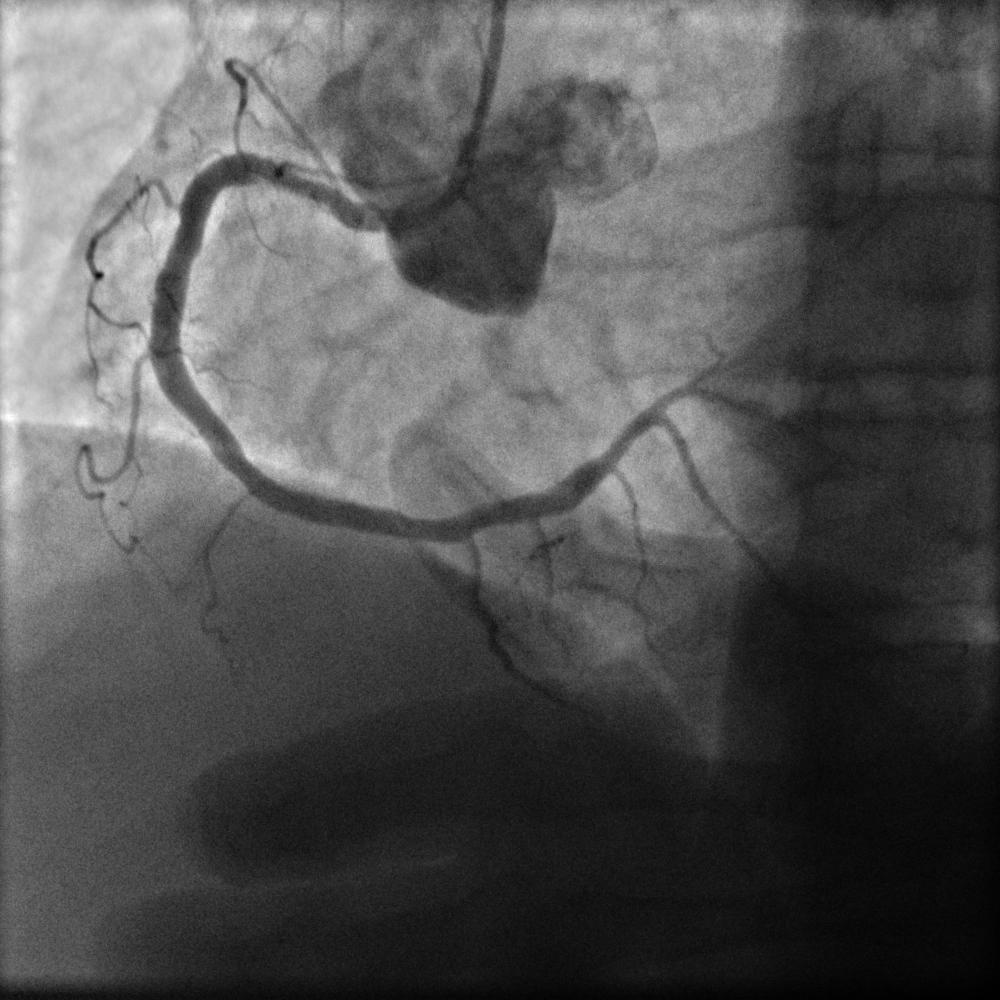Stenosis: (243, 144, 336, 213)
